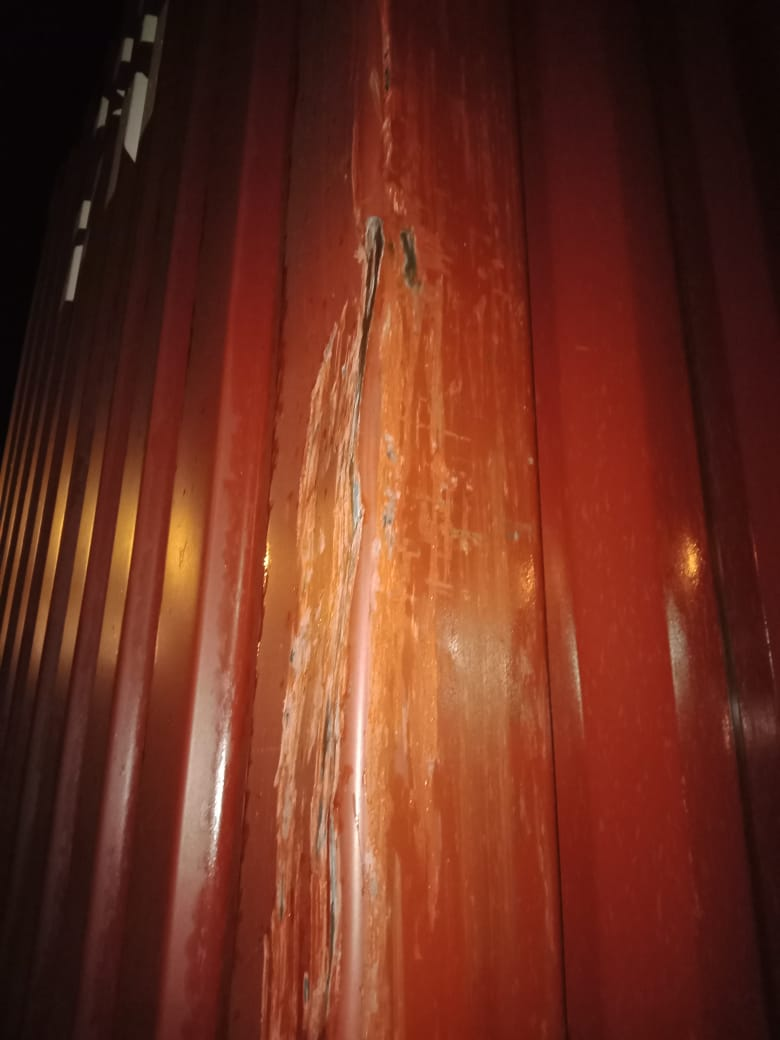severe: (296, 186, 457, 402)
